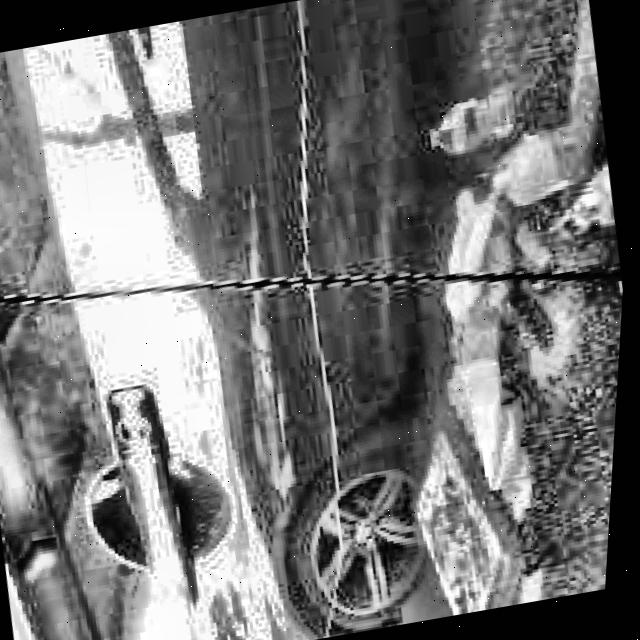door_scratch: (200, 0, 416, 639)
